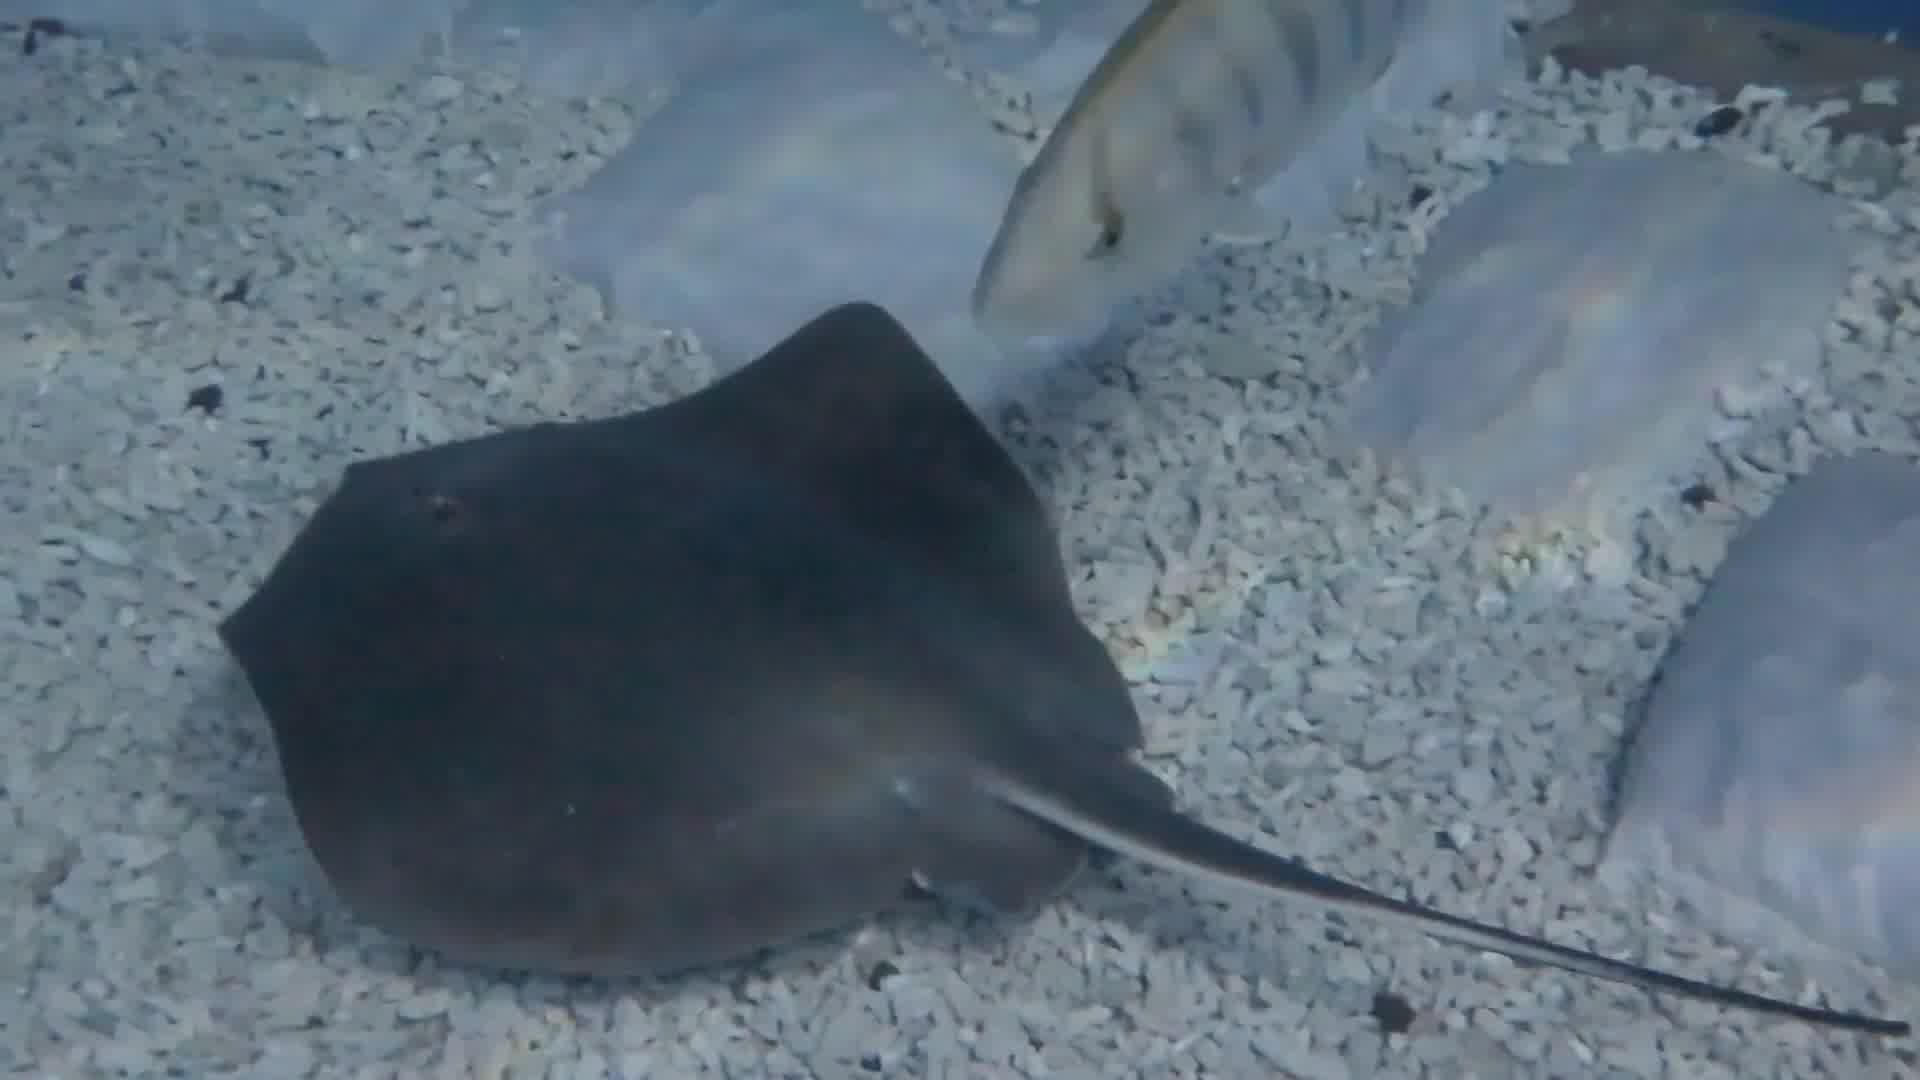Dasyatis bennetti: (166, 181, 1414, 1022)
